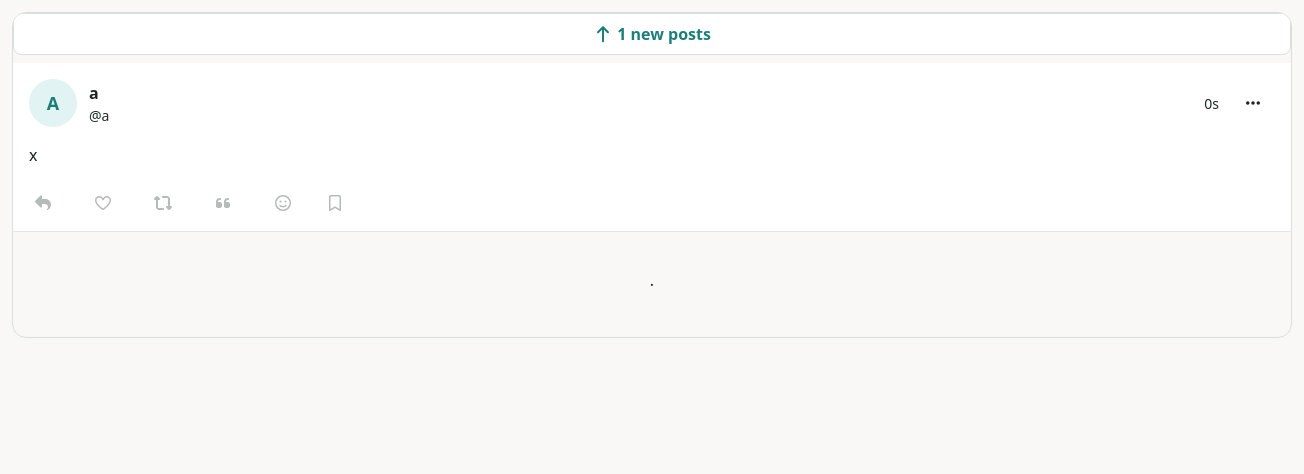
TimelinePage › pending buffer shows and flushes new posts
Click the button with test id "pending" at (652, 34), box [13, 13, 1291, 55]
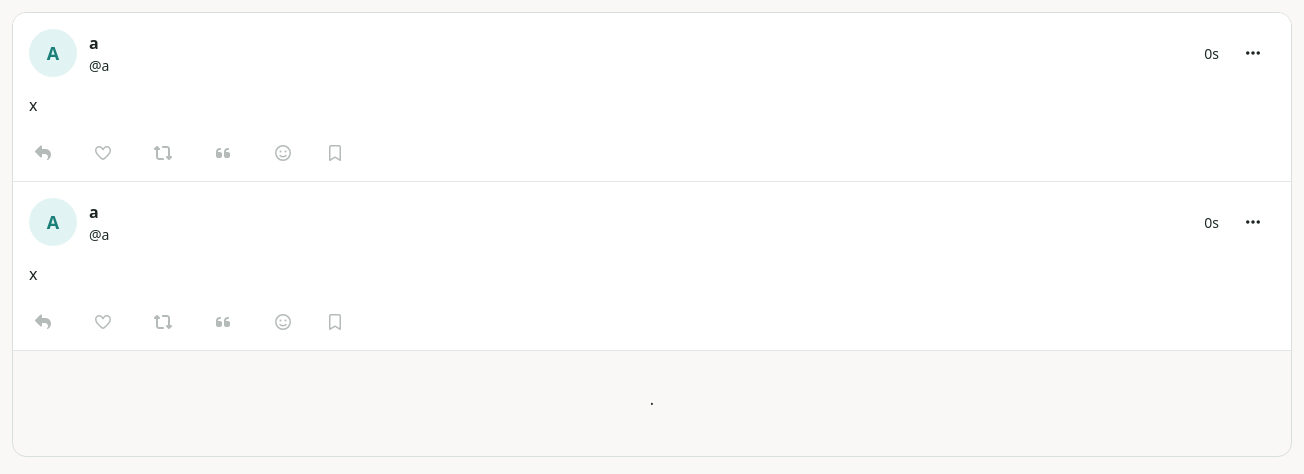
Now the number of elements with class "status-card" is 2, box [13, 13, 1291, 182]; [13, 182, 1291, 351]
